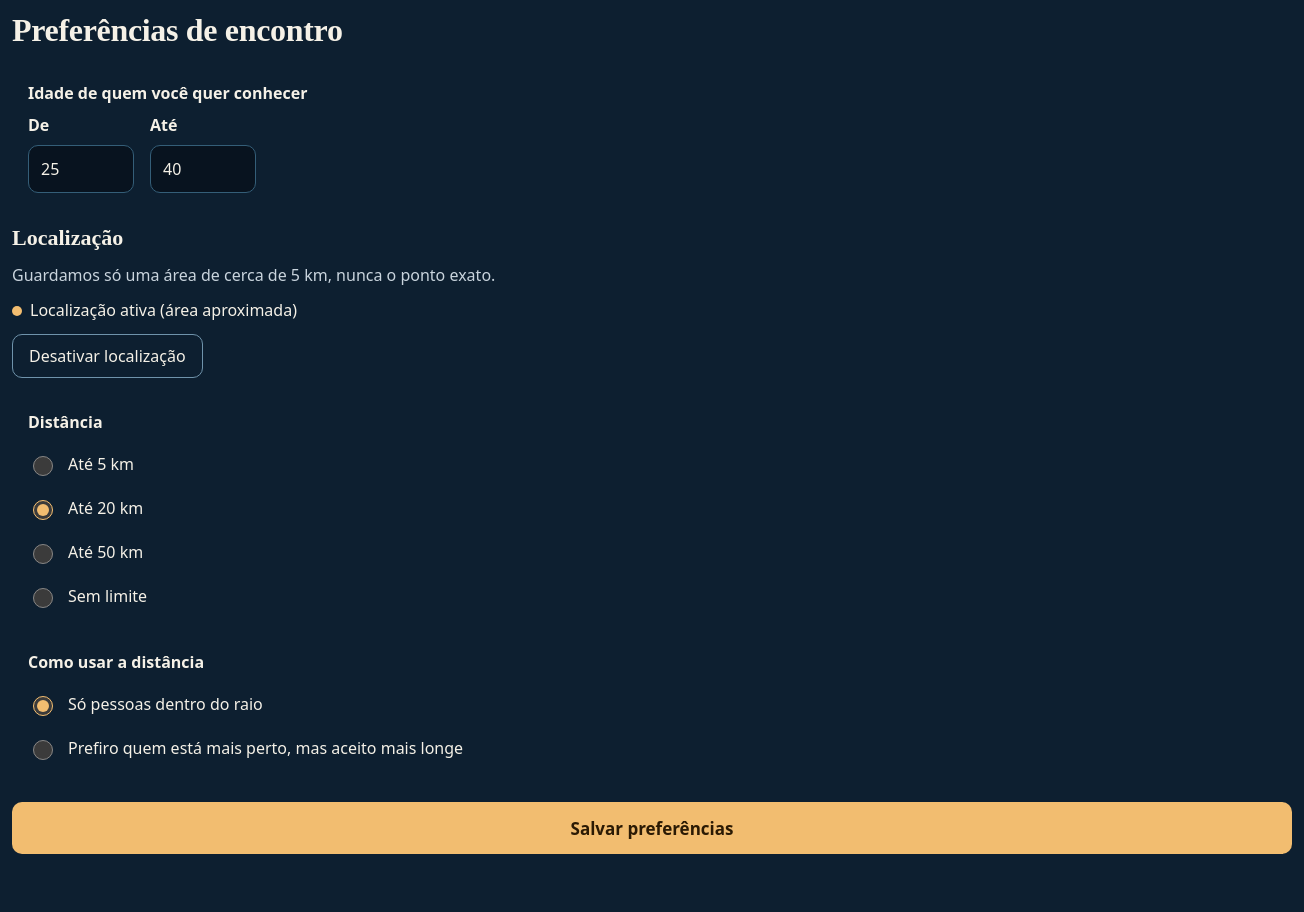
Test: Preferencias › localizacaoNecessariaVoltaParaSemLimiteComAMensagem
The image size is (1304, 912).
Step 1. Click the button "Salvar preferências" → click(652, 828), box [12, 802, 1292, 854]
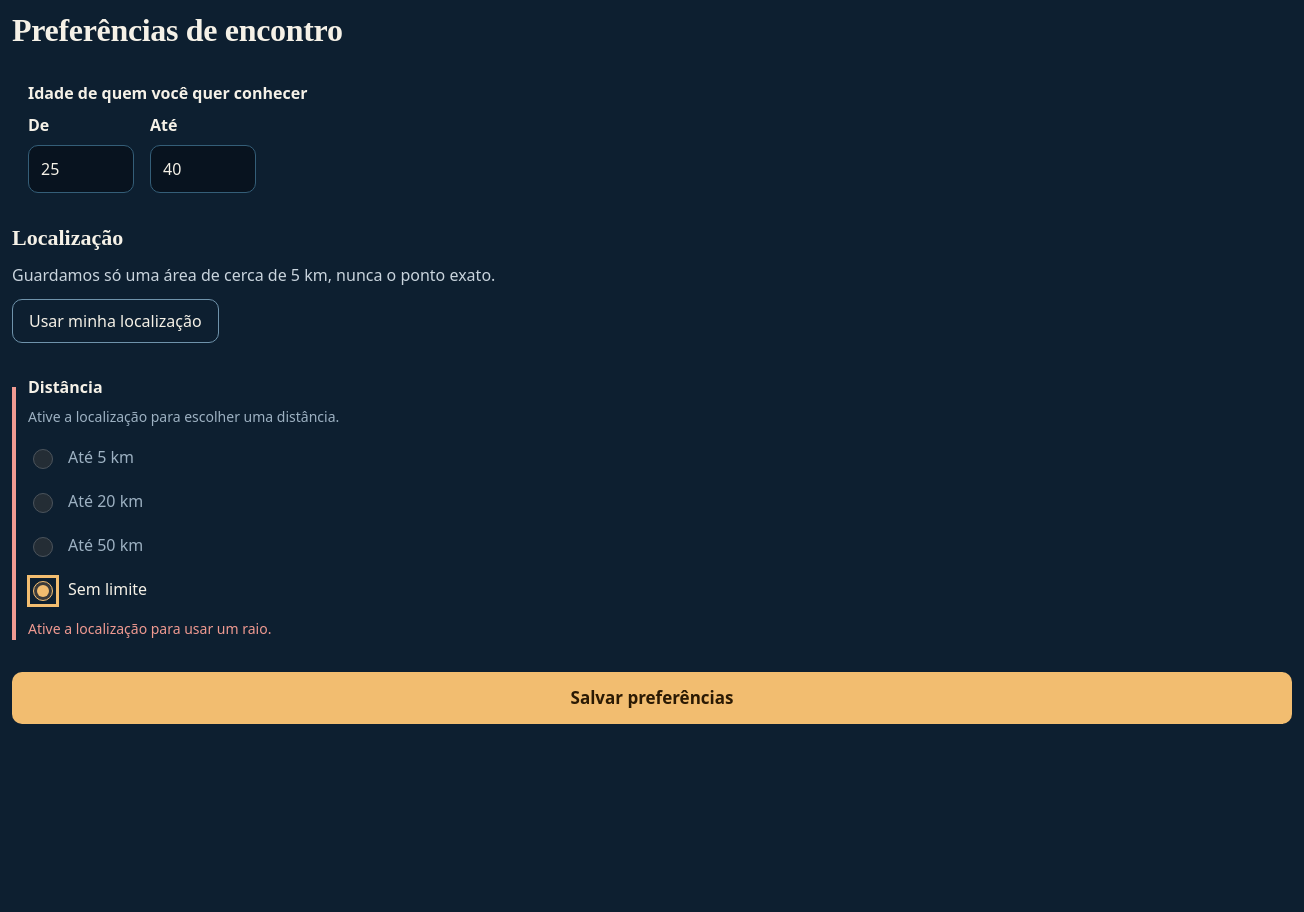
Check: the text "Ative a localização para usar um raio." is shown, box [28, 620, 271, 638]
Check: the radio button labelled "Sem limite" is checked, box [33, 581, 53, 601]
